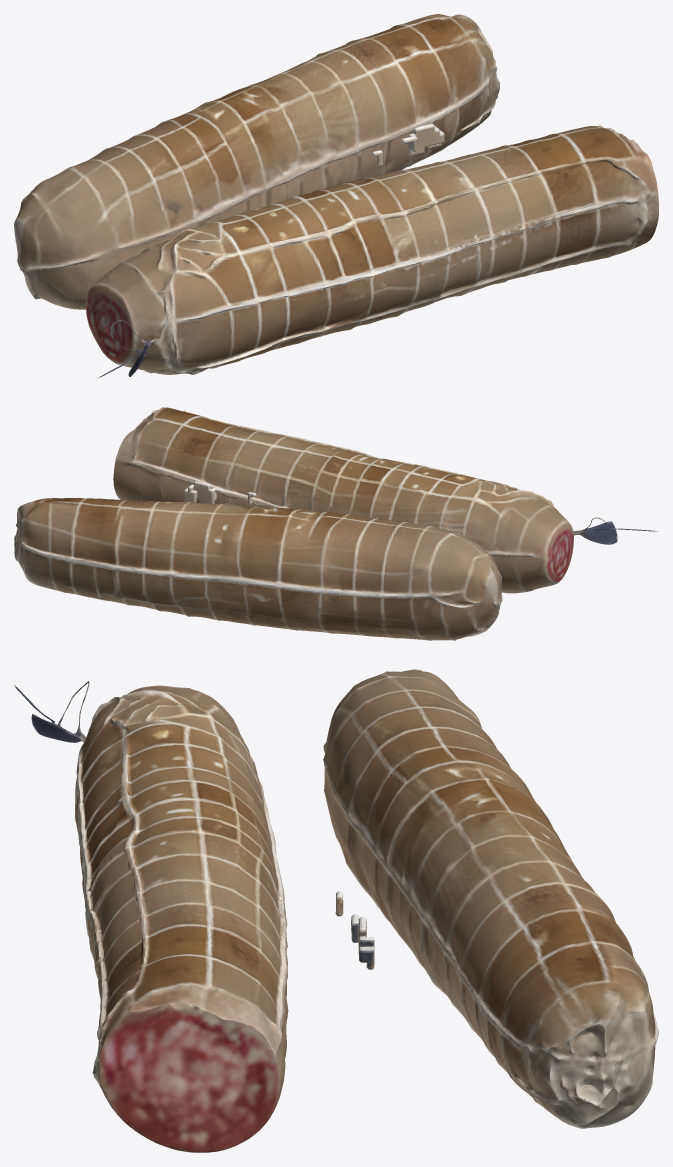
The model's file is compressed-salame_mantovano.glb.
The picture shows the model from 3 angles, top to bottom: view 1: azimuth 30°, elevation 25°; view 2: azimuth 150°, elevation 25°; view 3: azimuth 270°, elevation 25°; orthographic projection. The views are drawn at different scales.
Visible parts, largest first — view 1: model; view 2: model; view 3: model.
Boxes of the visible parts, x1,y1,x2,y2 form: model: (14,14,658,378); model: (14,407,658,640); model: (14,669,658,1152).
Bounding box in the file's own units: 1.9 × 0.4275 × 1.29.
1 material, 1 textured.
